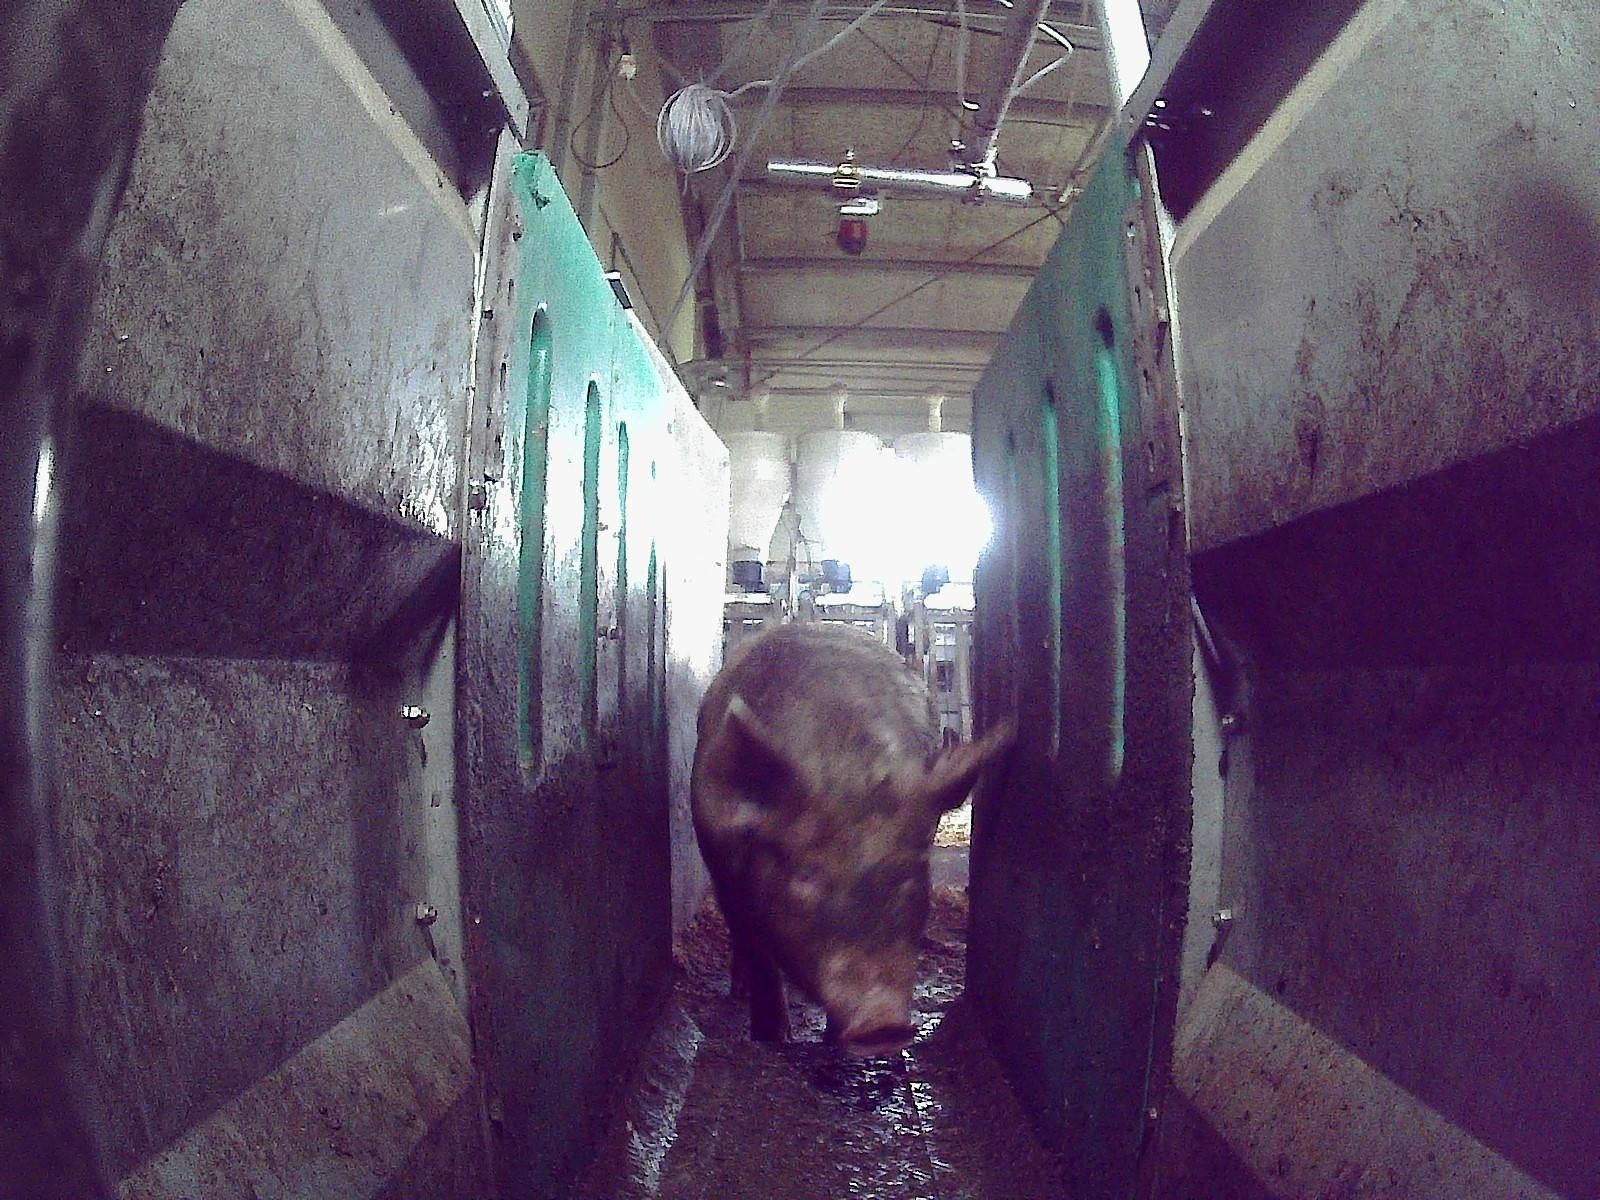Face: (758, 771, 933, 1053)
